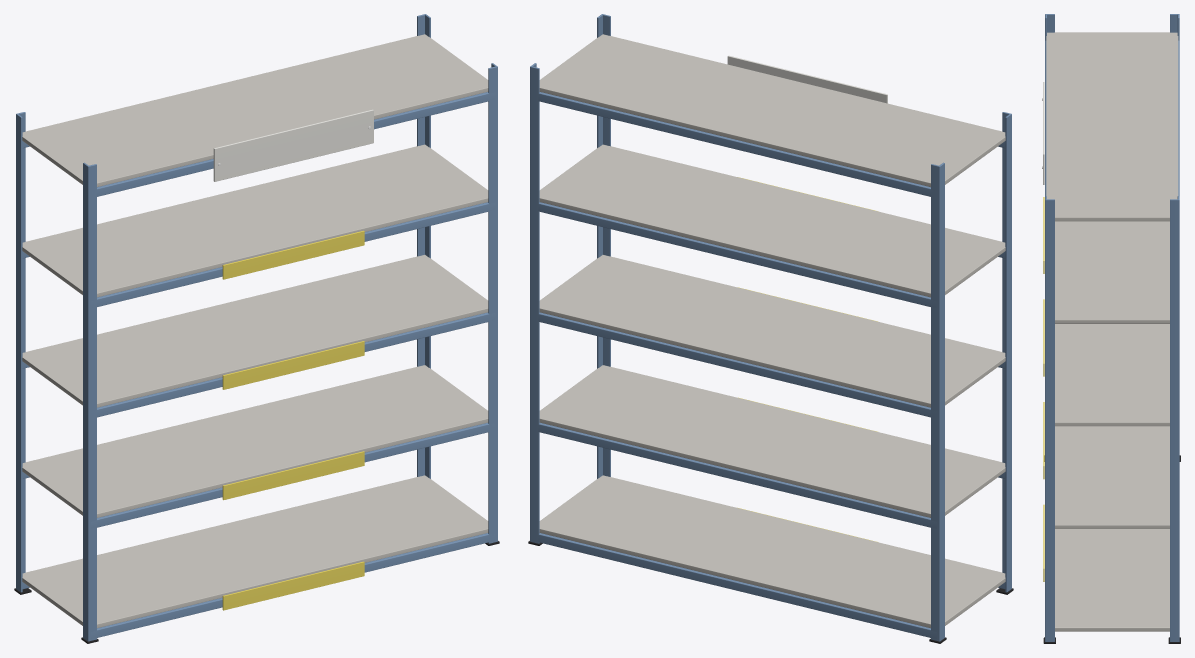
Rendered from shelf_staff.glb.
The picture shows the model from 3 angles, left to right: view 1: azimuth 30°, elevation 25°; view 2: azimuth 150°, elevation 25°; view 3: azimuth 270°, elevation 25°; orthographic projection. The views are drawn at different scales.
Parts seen in each view (by area): view 1: SM_shelf_staff; view 2: SM_shelf_staff; view 3: SM_shelf_staff.
Part boxes in pixels (box(x1,y1,x2,y2)): SM_shelf_staff: box(14, 14, 499, 643); SM_shelf_staff: box(528, 14, 1013, 643); SM_shelf_staff: box(1042, 14, 1180, 643).
Bounding box in the file's own units: 1.81 × 2 × 0.567.
